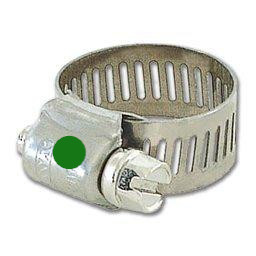focus: (50, 132, 90, 174)
